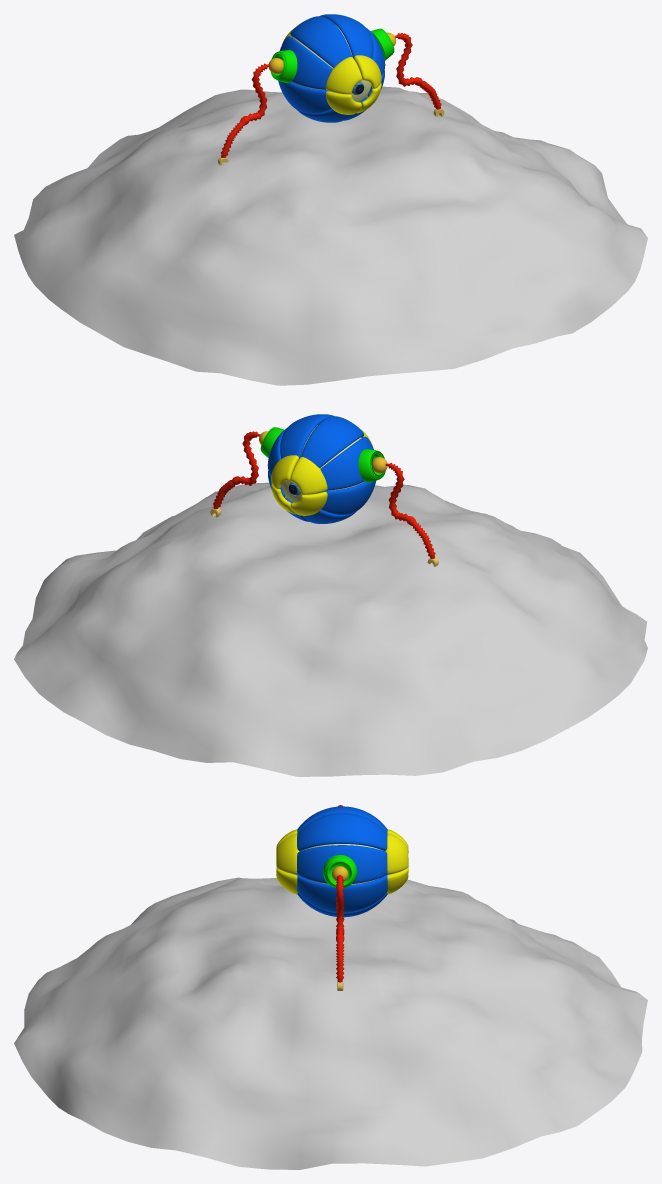
The model's file is Robot.fbx.
The picture shows the model from 3 angles, top to bottom: view 1: azimuth 30°, elevation 25°; view 2: azimuth 150°, elevation 25°; view 3: azimuth 270°, elevation 25°; orthographic projection. The views are drawn at different scales.
Visible parts, largest first — view 1: Cube.001, Sphere, Sphere.001, BezierCurve, Cylinder; view 2: Cube.001, Sphere, Sphere.001, BezierCurve, Cylinder; view 3: Cube.001, Sphere, Sphere.001, BezierCurve, Cylinder.
Boxes of the visible parts, x1=… form: Cube.001: x1=14, y1=86, x2=647, y2=385; Sphere: x1=278, y1=14, x2=385, y2=122; Sphere.001: x1=282, y1=28, x2=381, y2=114; BezierCurve: x1=220, y1=33, x2=441, y2=157; Cylinder: x1=270, y1=28, x2=394, y2=83; Cube.001: x1=14, y1=482, x2=647, y2=776; Sphere: x1=267, y1=414, x2=375, y2=523; Sphere.001: x1=271, y1=429, x2=372, y2=515; BezierCurve: x1=213, y1=431, x2=435, y2=558; Cylinder: x1=260, y1=427, x2=385, y2=482; Cube.001: x1=14, y1=877, x2=647, y2=1169; Sphere: x1=293, y1=806, x2=390, y2=917; Sphere.001: x1=276, y1=829, x2=408, y2=894; BezierCurve: x1=336, y1=805, x2=344, y2=982; Cylinder: x1=323, y1=855, x2=357, y2=887.
Bounding box in the file's own units: 1256 × 519 × 1248.
